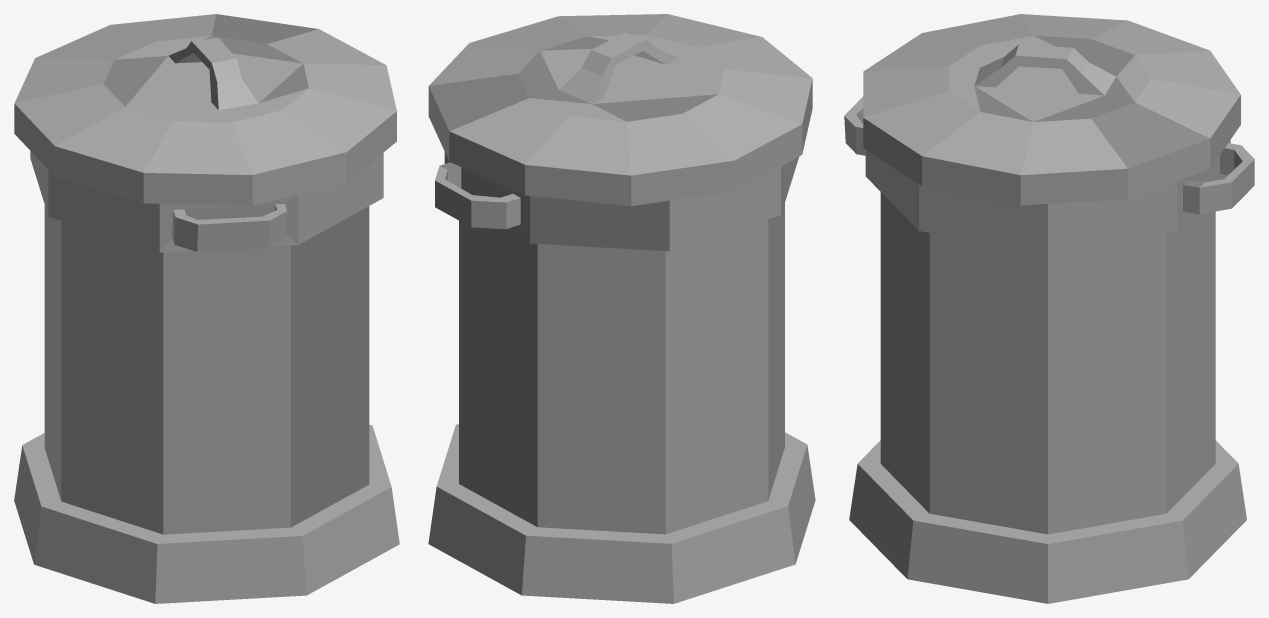
The model's file is bin.glb.
3 views of the same model, side by side, from view 1: azimuth 30°, elevation 25°; view 2: azimuth 150°, elevation 25°; view 3: azimuth 270°, elevation 25° (orthographic).
Visible parts, largest first — view 1: Bin; view 2: Bin; view 3: Bin.
Boxes of the visible parts, <box> form: Bin: <box>14,14,399,603</box>; Bin: <box>428,14,815,603</box>; Bin: <box>844,14,1254,603</box>.
Size of the model in its own units: 2.37 by 3.1 by 2.45.
Materials: 1 (1 with a texture image).
